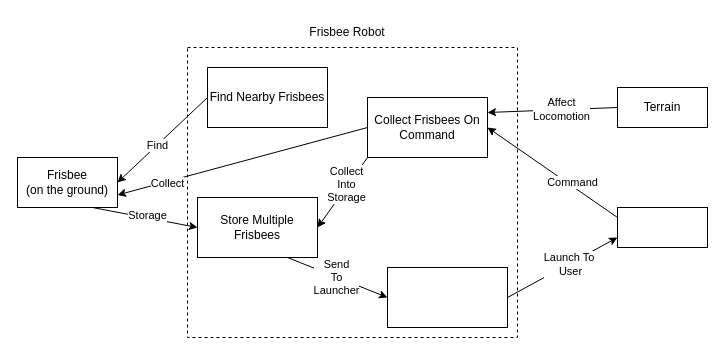
The diagram is 725 pixels wide and 355 high, and some of its shapes have lost their labels. Here are the shapes that lost their labels. From the top down, the centre of each, then its label:
(x=662, y=227): User (Player)
(x=447, y=297): Launching Frisbee Back
